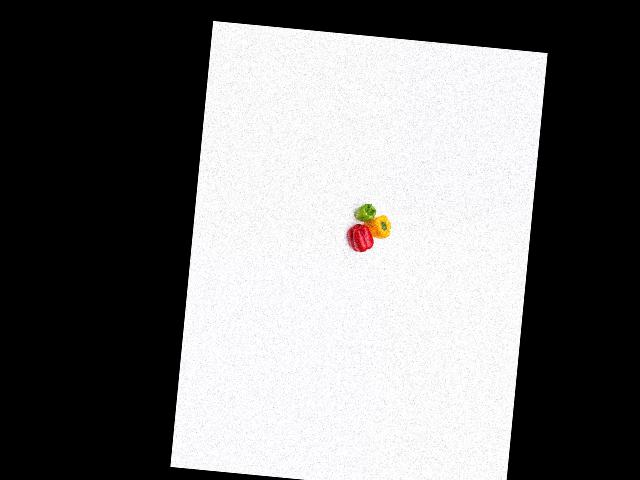bell_pepper: (352, 197, 379, 223)
